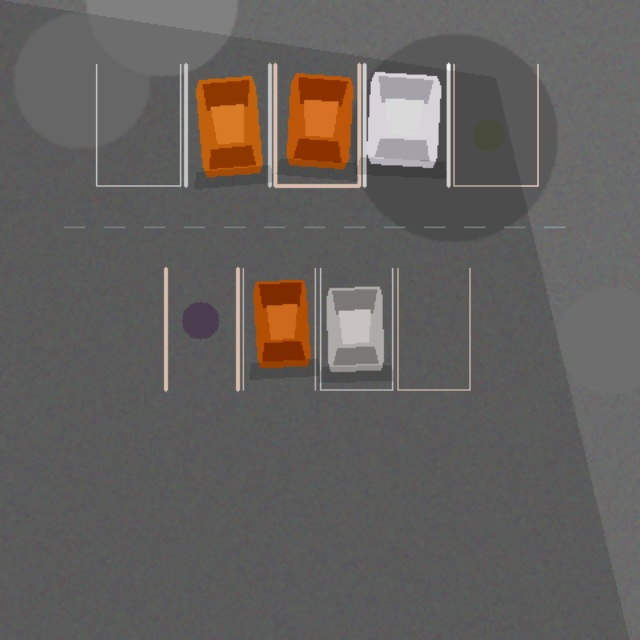space-empty: (96, 64, 180, 185), (453, 64, 537, 185), (165, 268, 237, 389), (397, 268, 469, 389)
space-occupied: (185, 64, 269, 185), (275, 64, 359, 185), (364, 64, 448, 185), (243, 268, 315, 389), (320, 268, 392, 389)
